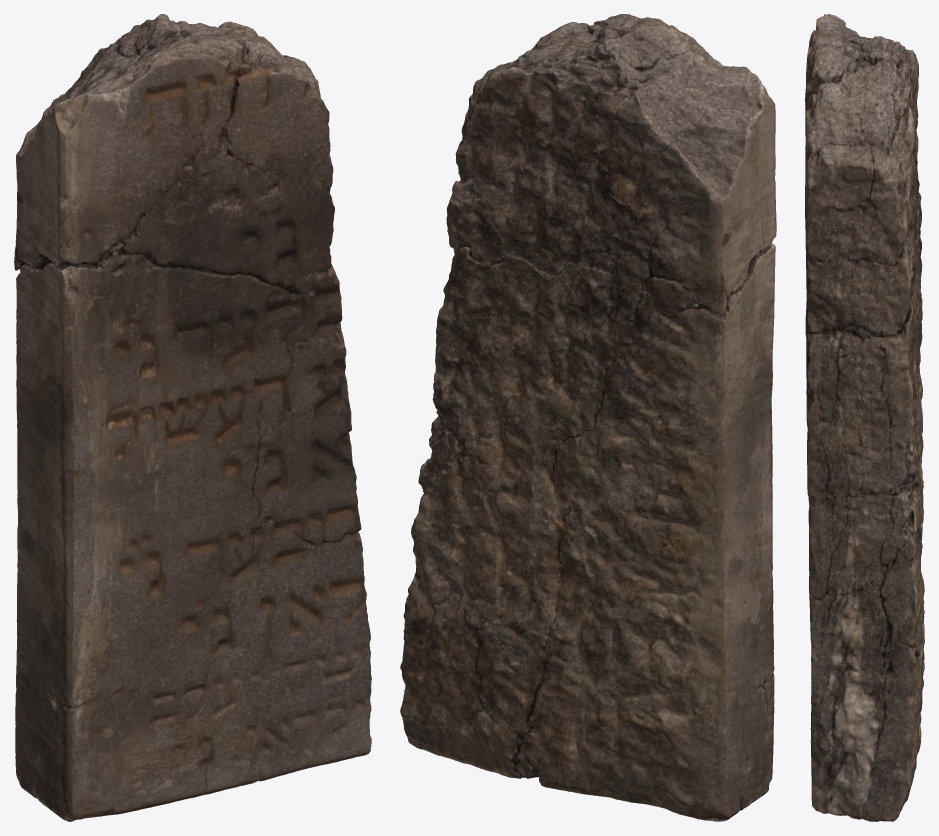
Rendered from preview.glb.
3 views of the same model, side by side, from view 1: azimuth 30°, elevation 25°; view 2: azimuth 150°, elevation 25°; view 3: azimuth 270°, elevation 25° (orthographic). The views are drawn at different scales.
Parts seen in each view (by area): view 1: Object_2; view 2: Object_2; view 3: Object_2.
Boxes of the visible parts, x1,y1,x2,y2 form: Object_2: [14, 14, 371, 821]; Object_2: [400, 14, 776, 821]; Object_2: [805, 14, 924, 821].
Bounding box in the file's own units: 16.82 × 36.69 × 5.7.
Materials: 1 (1 with a texture image).
